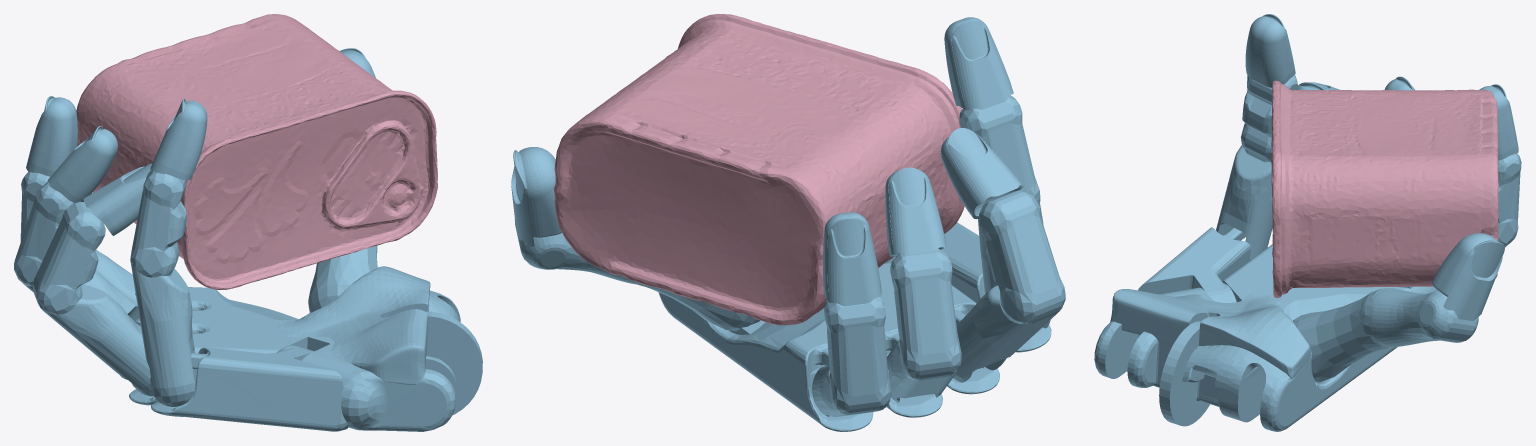
Rendered from ShadowHand_ycb+potted_meat_can_mesh.glb.
3 views of the same model, side by side, from view 1: azimuth 30°, elevation 25°; view 2: azimuth 150°, elevation 25°; view 3: azimuth 270°, elevation 25° (orthographic). The views are drawn at different scales.
Visible parts, largest first — view 1: world; view 2: world; view 3: world.
Part boxes in pixels (box(x1,y1,x2,y2)): world: box(14, 14, 482, 431); world: box(511, 14, 1065, 431); world: box(1094, 14, 1521, 431).
Bounding box in the file's own units: 0.1679 × 0.1279 × 0.157.
